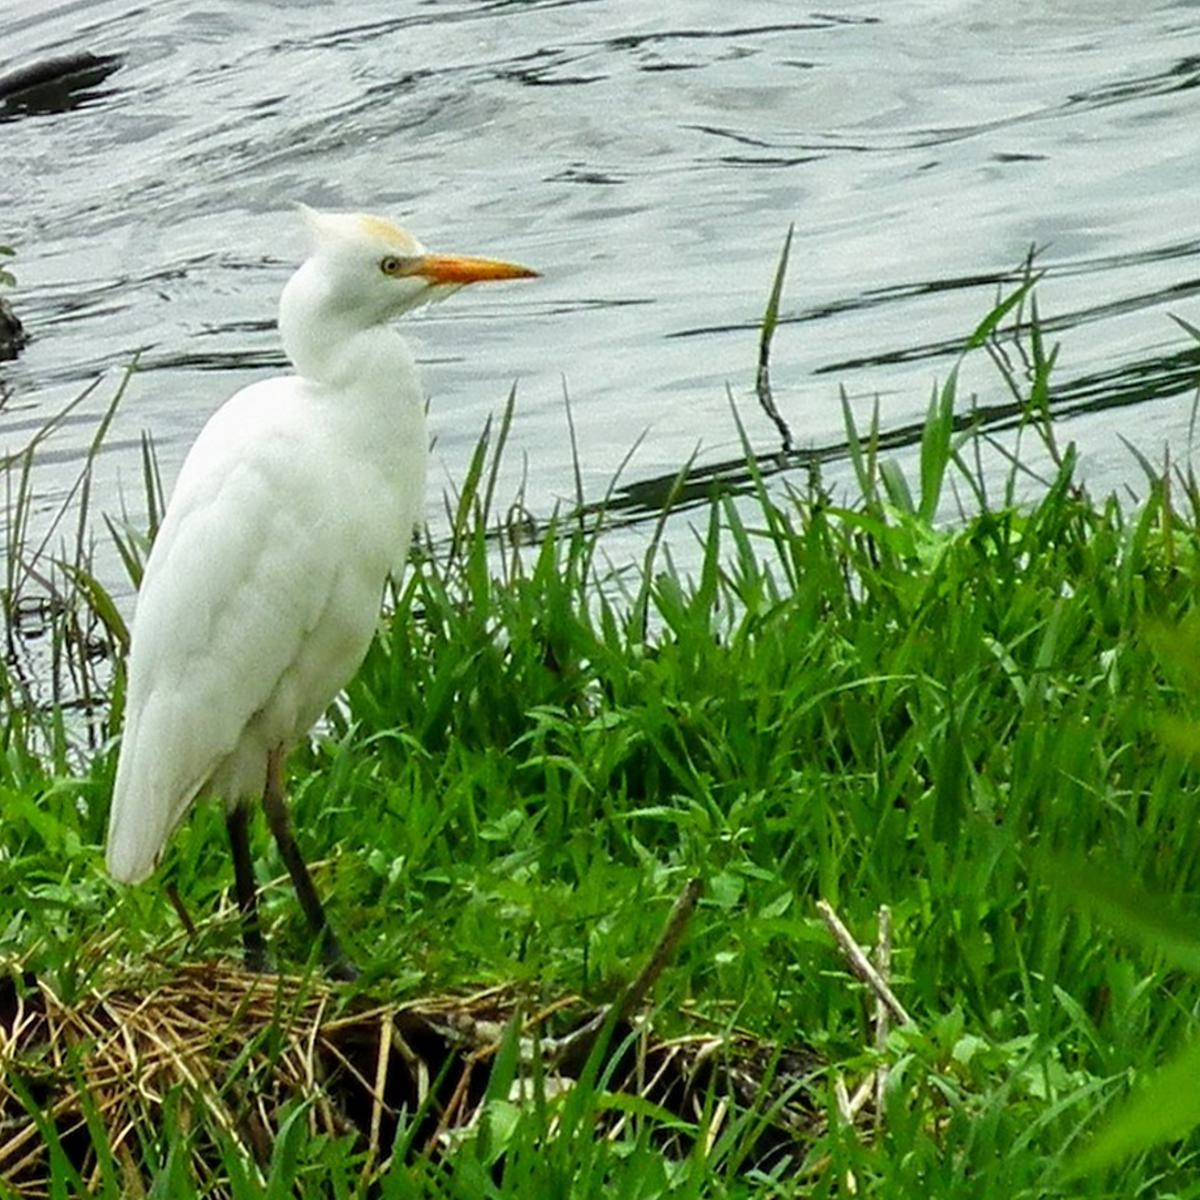egret: (140, 195, 508, 958)
